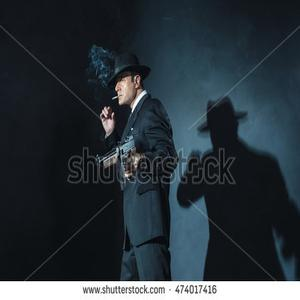cigarette: (109, 94, 121, 102)
